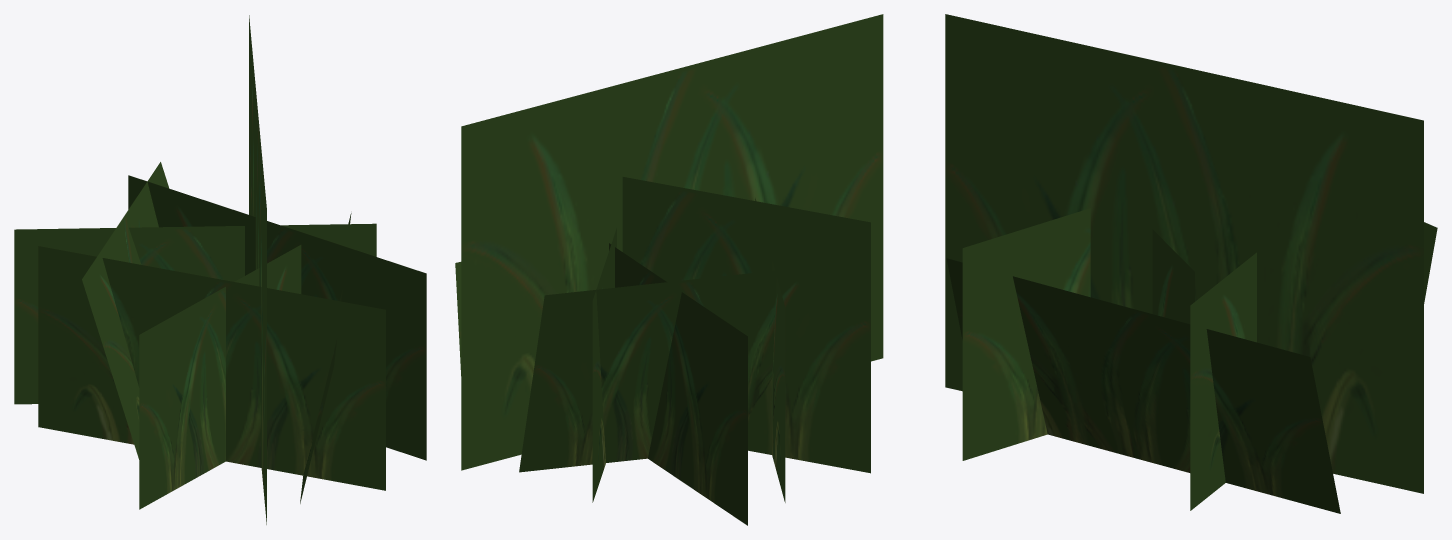
File: kuanyecao_41.FBX
3 views of the same model, side by side, from view 1: azimuth 30°, elevation 25°; view 2: azimuth 150°, elevation 25°; view 3: azimuth 270°, elevation 25° (orthographic). The views are drawn at different scales.
Visible parts, largest first — view 1: kuanyecao_41; view 2: kuanyecao_41; view 3: kuanyecao_41.
Part boxes in pixels (x1=…): kuanyecao_41: x1=14, y1=15, x2=426, y2=524; kuanyecao_41: x1=455, y1=14, x2=883, y2=525; kuanyecao_41: x1=945, y1=14, x2=1437, y2=513.
Bounding box in the file's own units: 219 × 195 × 232.
